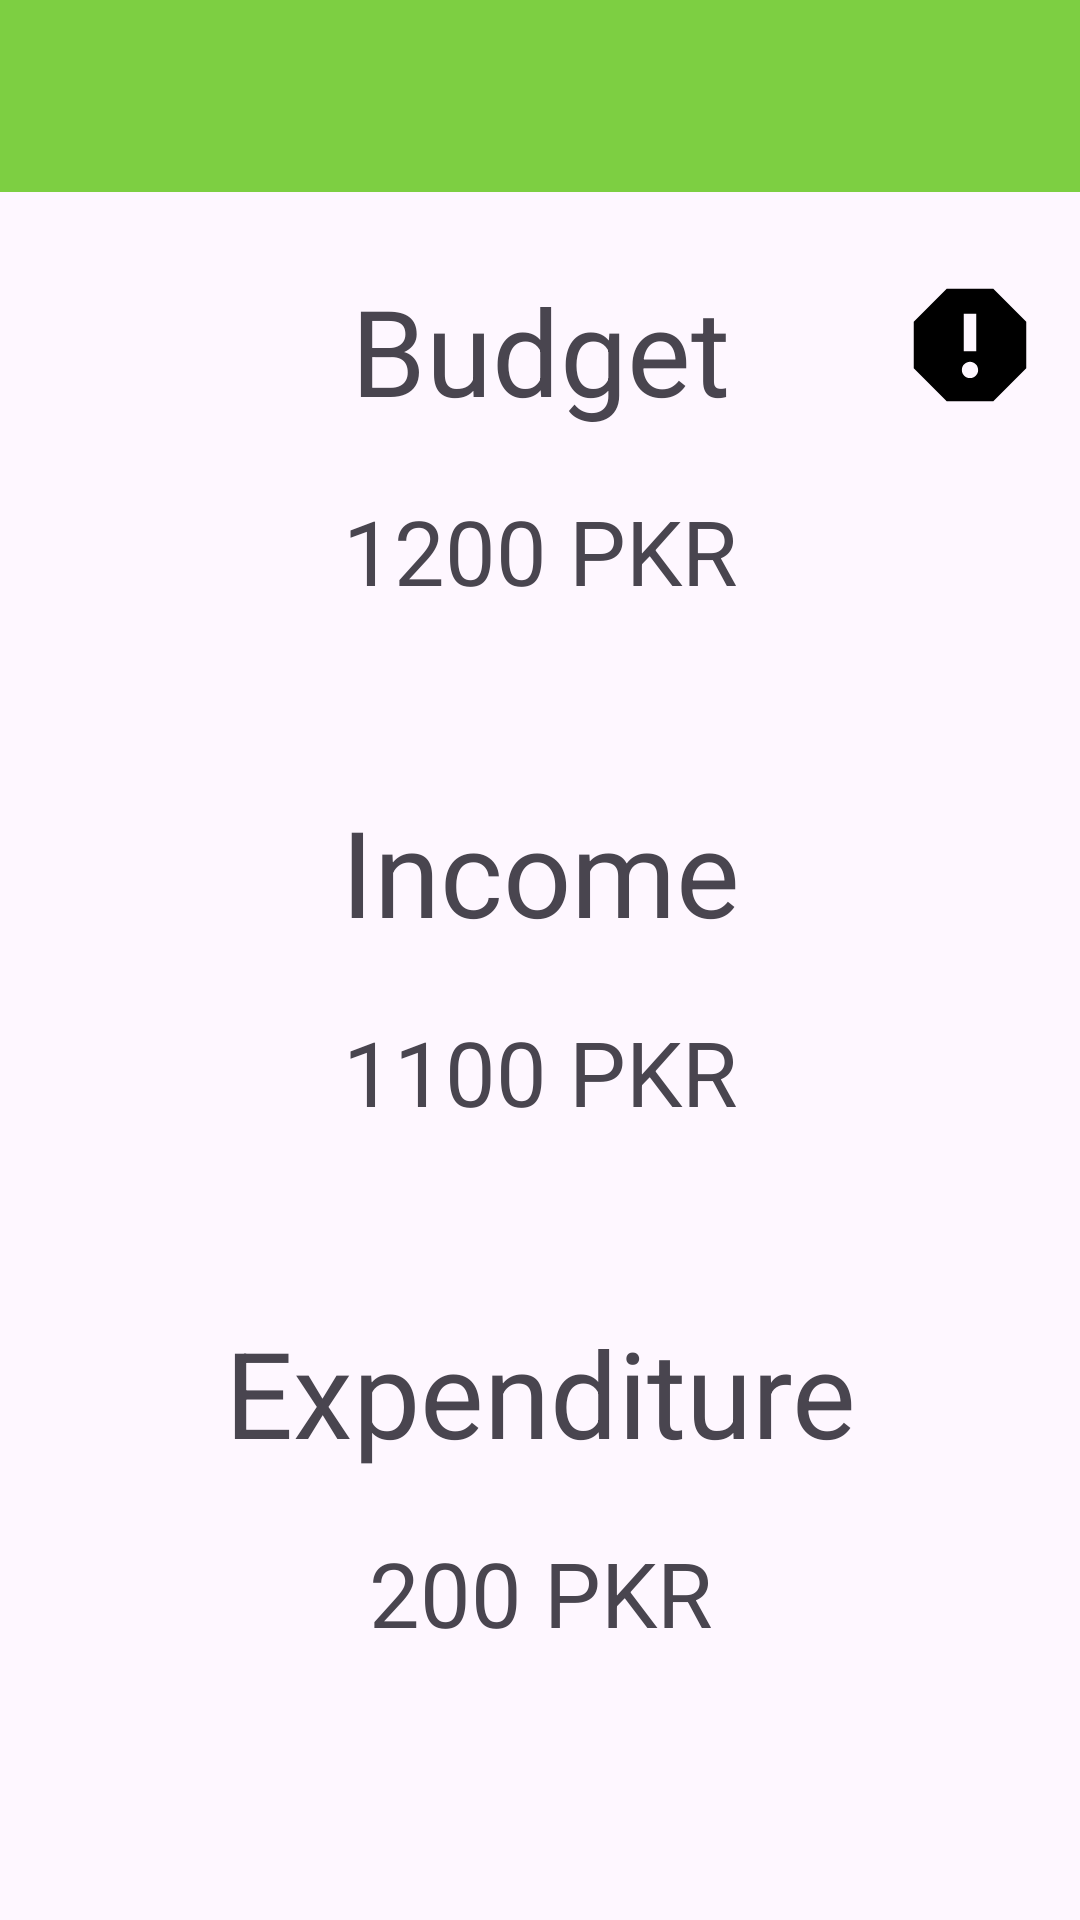

Screen size 1080×1920. Icon name, then its center in pixels as [x,y]:
report: [970,345]
